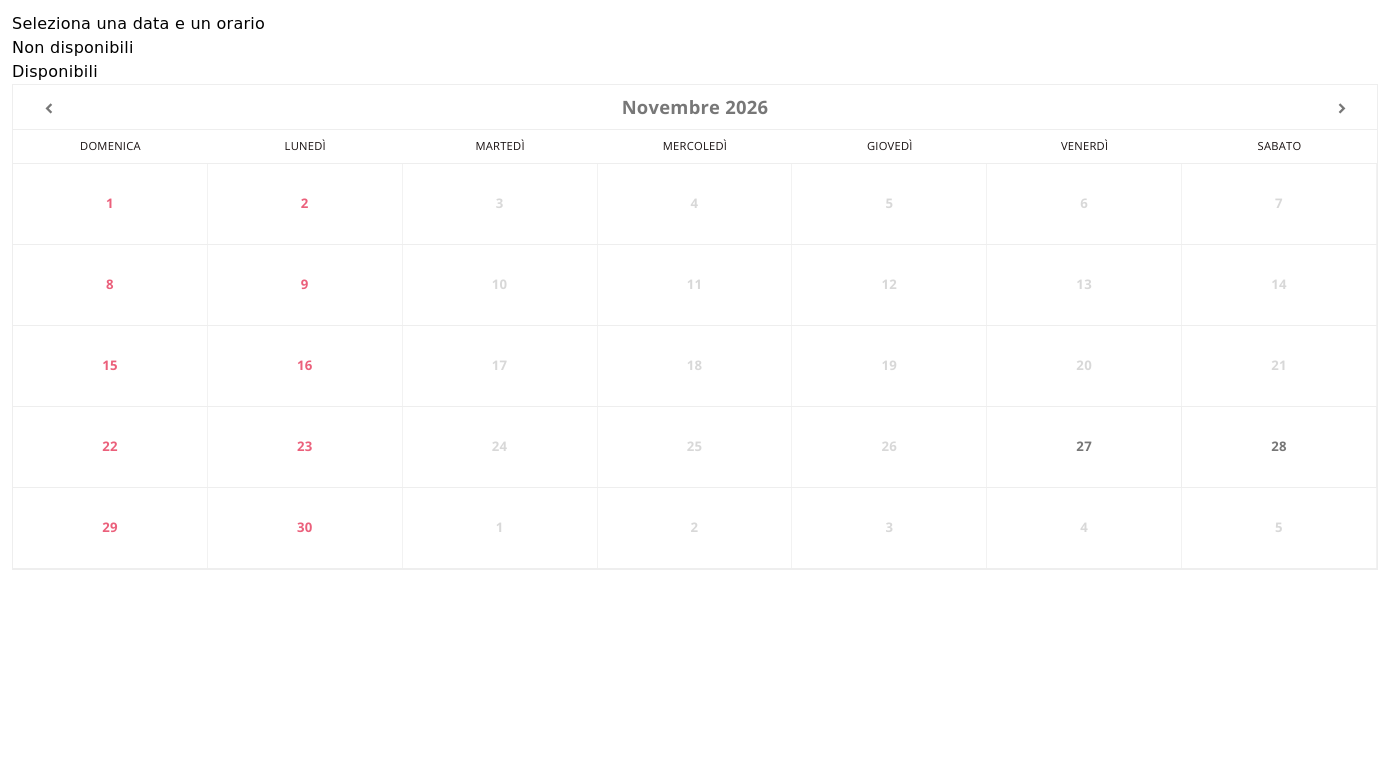
special openings in the public calendar › offers no selectable slots if the date was manually blocked
The image size is (1390, 780).
Later steps or results of the test are not shown.
Click the 2nd button "chevron_right" at (1341, 109), box [1332,100,1351,118]
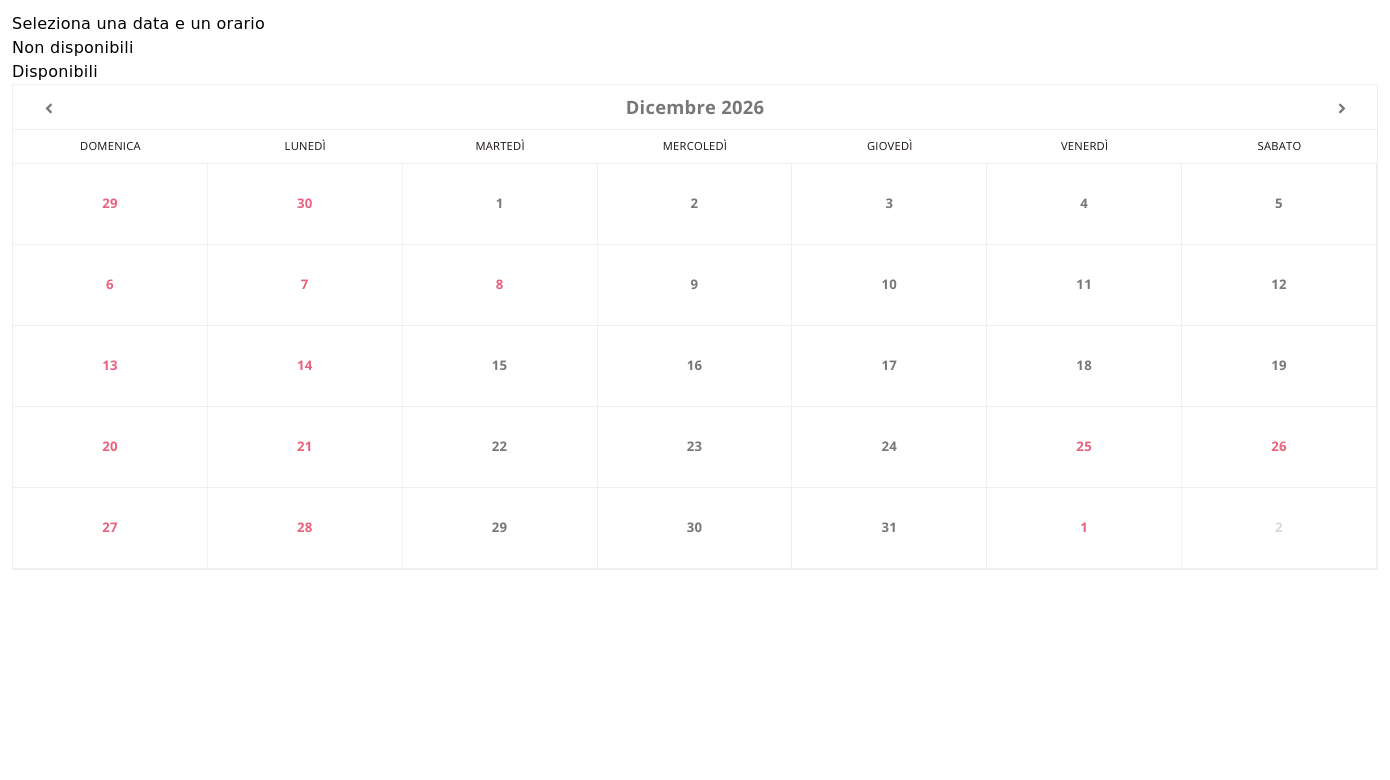
Click the button with class "t29-12" at (500, 528), box [403,488,598,568]
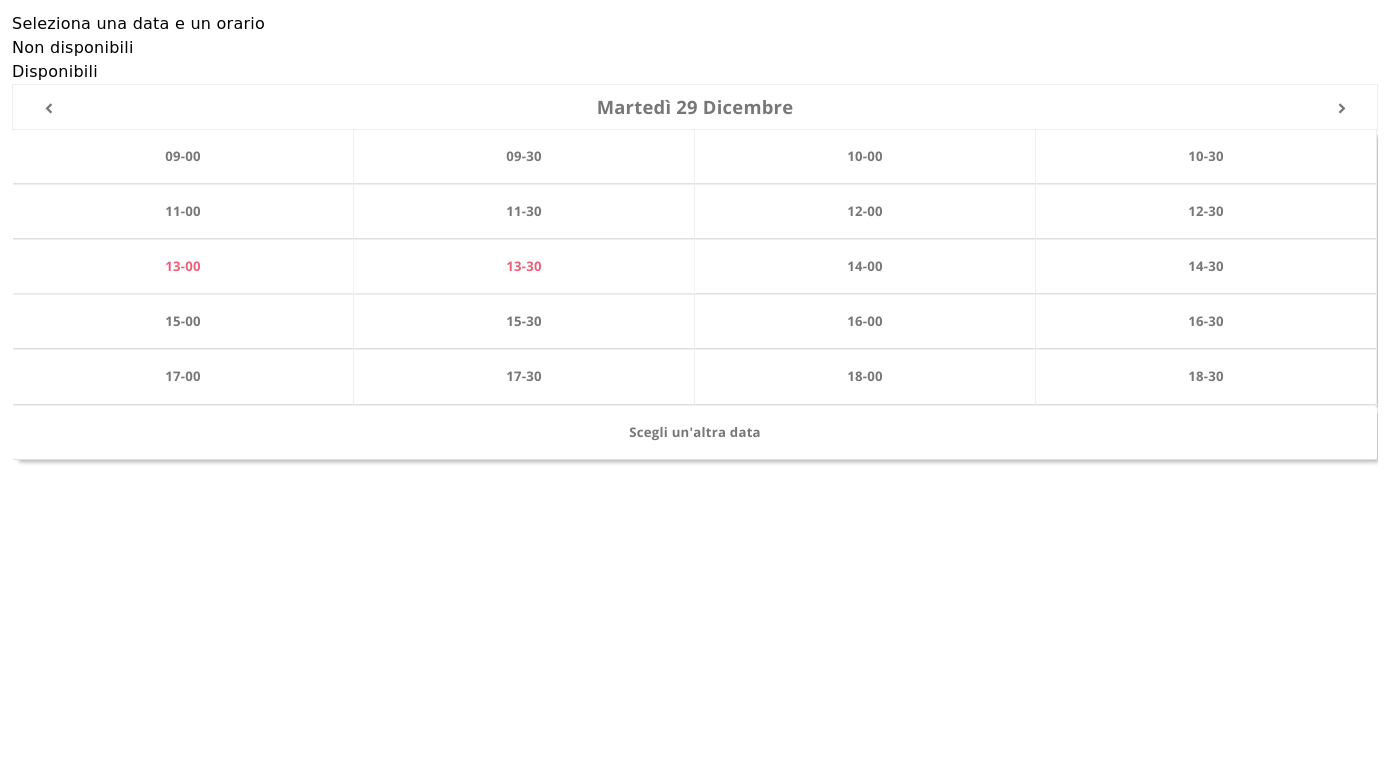
Click the 1st button "chevron_left" at (49, 109), box [39,100,58,118]
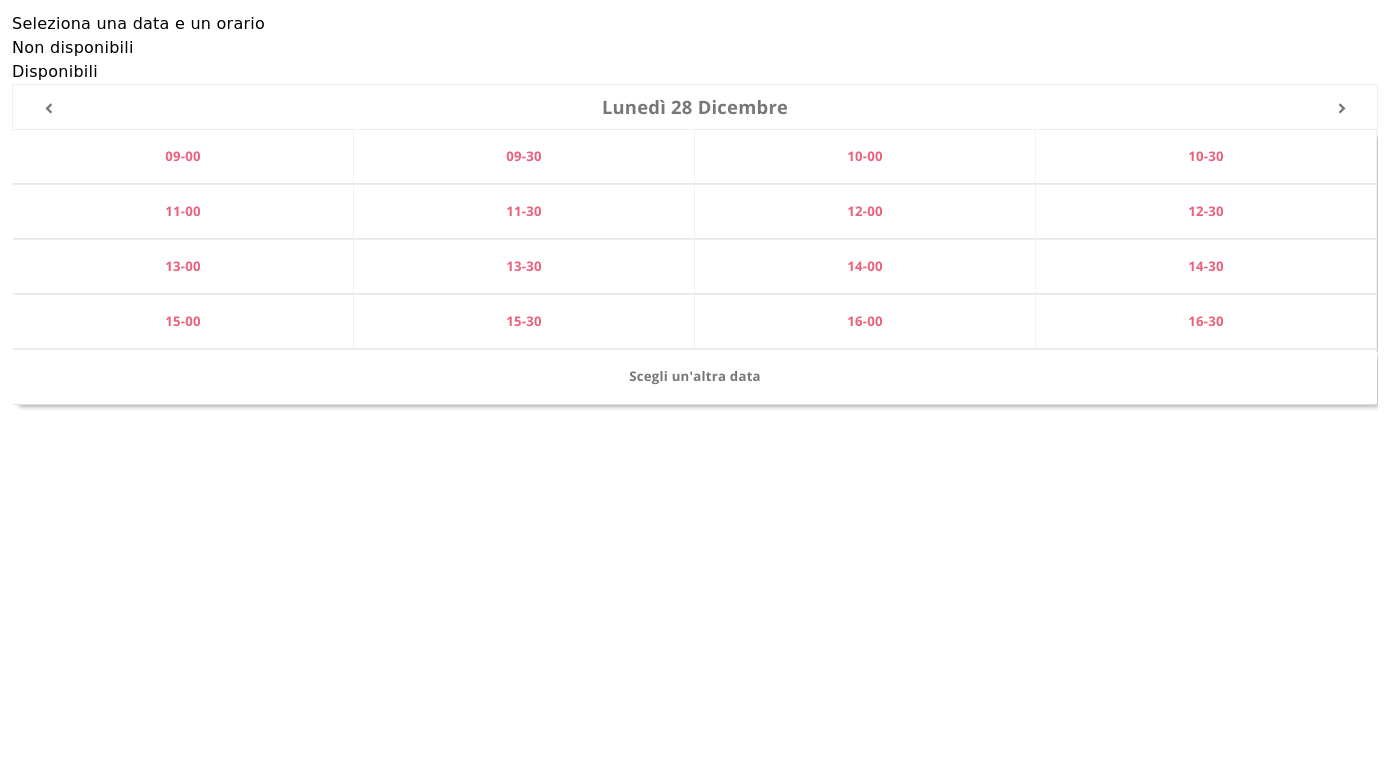
Expected: the button "09-00" is disabled, [13,130,354,184]
